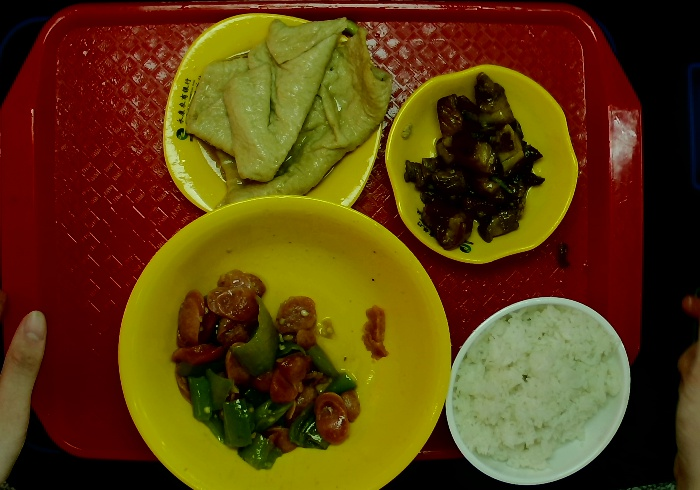YKMZ-Fan_Wan: (443, 289, 637, 490)
YKMZ-Huang_Se_Ao_Bian_Wan: (382, 57, 586, 271)
YKMZ-Huang_Se_Fang_Die: (159, 1, 395, 244)
YKMZ-Huang_Se_Tang_Wan: (112, 192, 454, 490)
